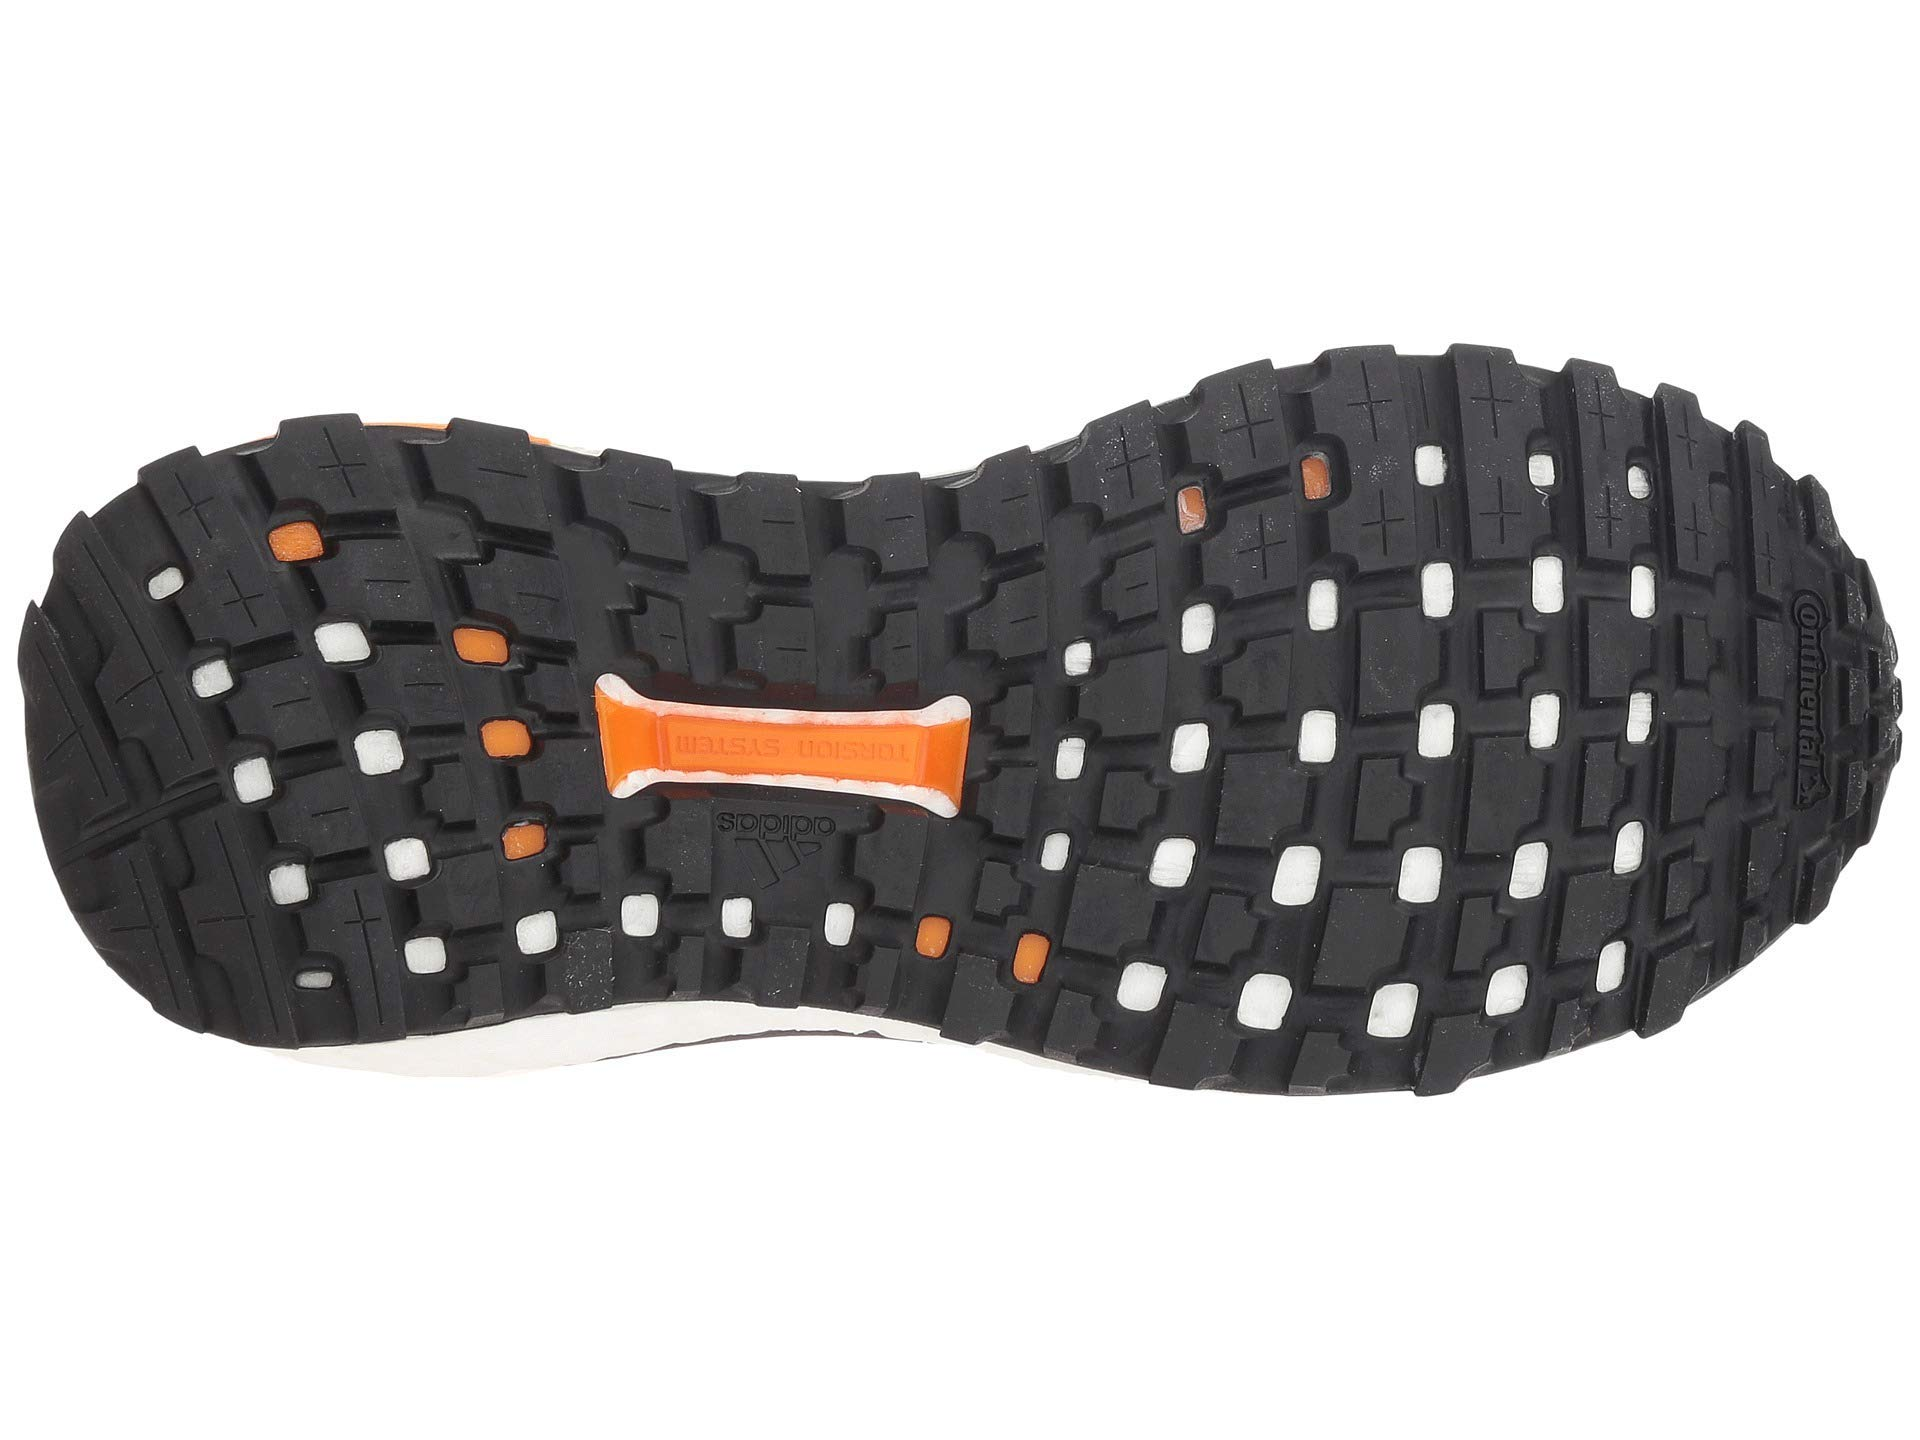quad: (1154, 591, 1599, 971)
